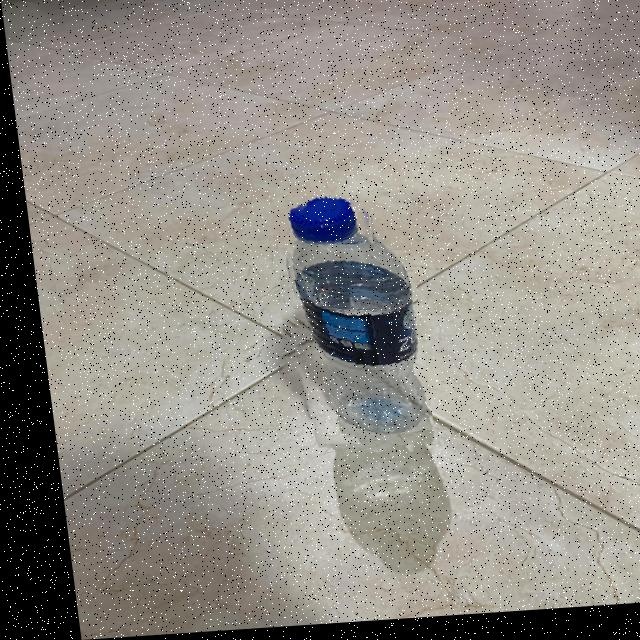plasticbottle: (252, 195, 423, 460)
plasticbottlecap: (276, 208, 367, 258)
